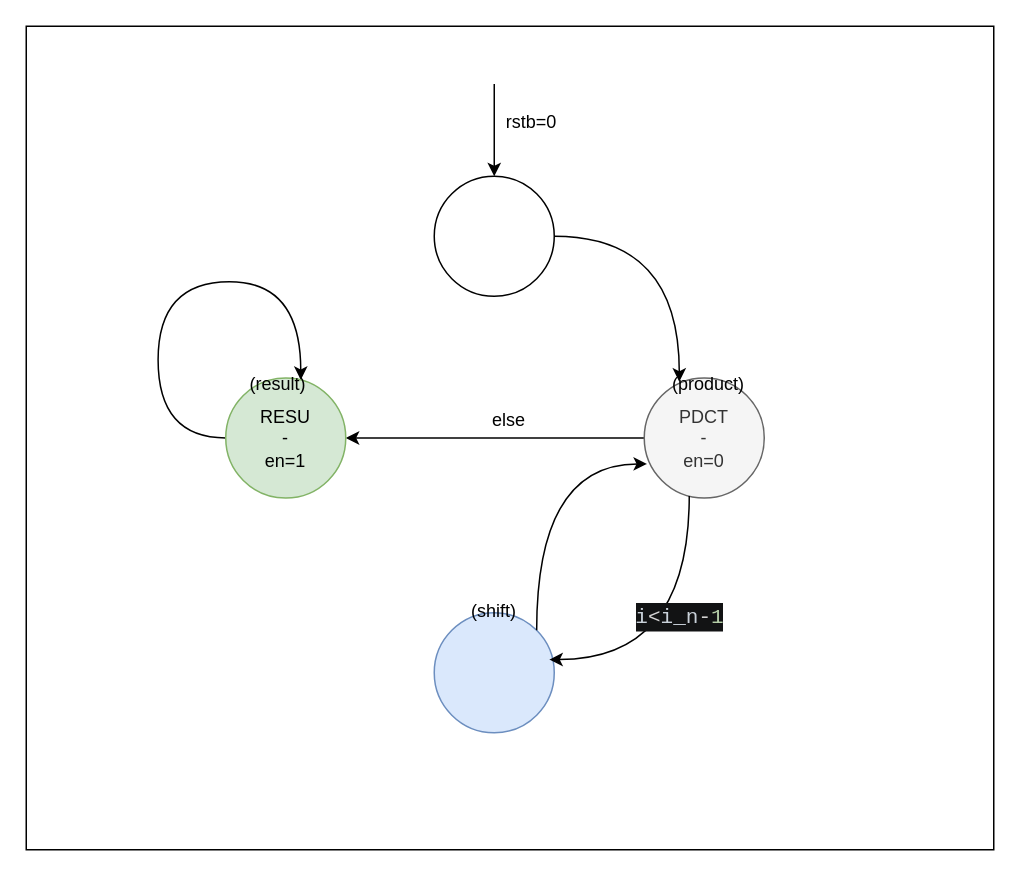
Some shapes in this 1020 by 876 pixel diagram are drawn without their labels. The shapes that lost their labels are listed below. From the top down, each one's centre as x and y in pixels, then its label:
At [493,235]: "IDLE - en=0".
At [493,672]: "PDSH - en=0".
